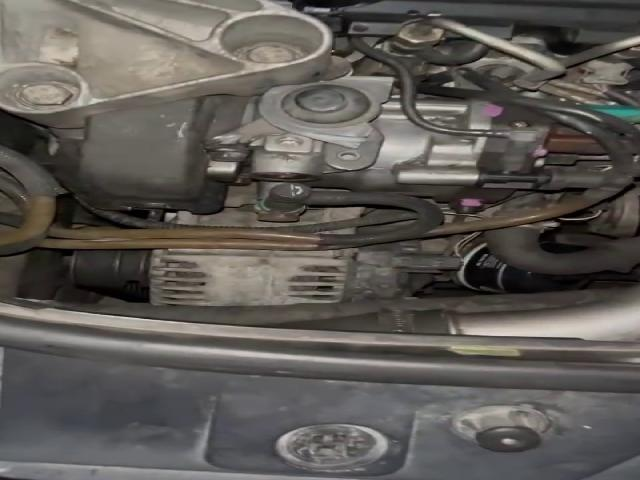alternator: (150, 249, 353, 306)
high_pressure_pump: (247, 100, 607, 214)
